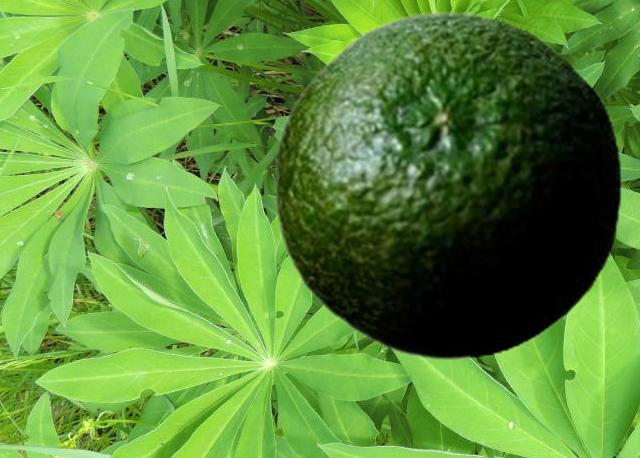calamansi: (273, 10, 621, 360)
